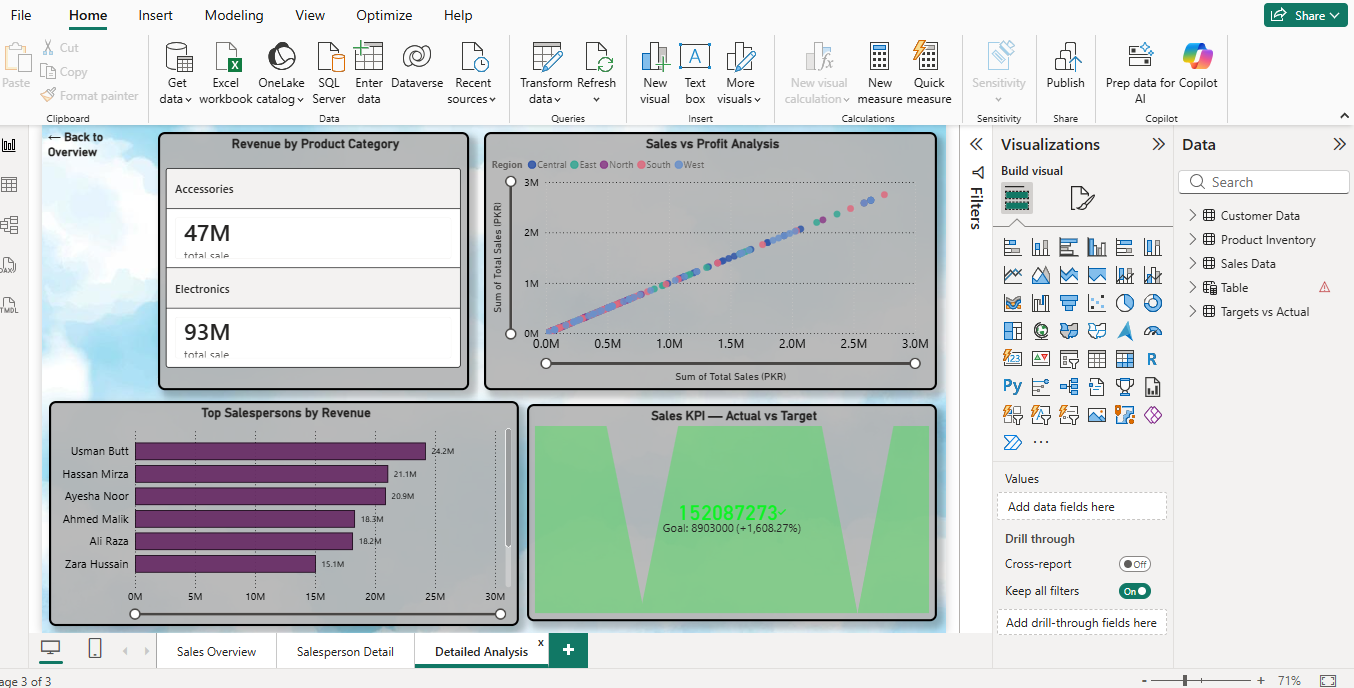

What the dashboard file says about the page in this screenshot:
{"tool":"powerbi","page":{"name":"Detailed Analysis","canvas":[1280,720],"ordinal":2},"visuals":[{"type":"kpi","title":"Sales KPI — Actual vs Target","fields":{"TrendLine":["Sales Data.Month"],"Indicator":["Sum(Targets vs Actual.Actual Sales (PKR))"],"Goal":["Sum(Sales Data.Total Sales (PKR))"]},"box":[687.4,395.4,581.1,307.6],"z":0},{"type":"cardVisual","title":"Revenue by Product Category","fields":{"Data":["Sum(Sales Data.Total Sales (PKR))"],"Rows":["Sales Data.Category"]},"box":[164.4,9.9,440.8,365.7],"z":1000},{"type":"actionButton","title":"← Back to Overview","box":[8.5,5.7,100.6,39.7],"z":2000},{"type":"clusteredBarChart","title":"Top Salespersons by Revenue","fields":{"Category":["Sales Data.Salesperson"],"Y":["Sum(Sales Data.Total Sales (PKR))"]},"box":[9.9,391.2,666.1,318.9],"z":3000},{"type":"scatterChart","title":"Sales vs Profit Analysis","fields":{"X":["Sum(Sales Data.Total Sales (PKR))"],"Y":["Sum(Sales Data.Total Sales (PKR))"],"Category":["Sales Data.Profit (PKR)"],"Series":["Sales Data.Region"]},"box":[626.5,9.9,642,365.7],"z":4000}]}

Visuals, with their boxes on the page's 1280x720 design canvas (x1, y1, x2, y2). These are canvas units, not pixel positions in the 1354x688 screenshot, which may show the page scaled, cropped or inside an application window:
"Sales KPI — Actual vs Target" kpi: 687:395:1268:703
"Revenue by Product Category" cardVisual: 164:10:605:376
"← Back to Overview" actionButton: 8:6:109:45
"Top Salespersons by Revenue" clusteredBarChart: 10:391:676:710
"Sales vs Profit Analysis" scatterChart: 626:10:1268:376
